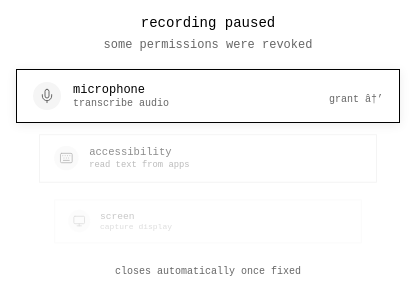
Test: permission recovery wheel › advances focus to the next revoked permission once one is regained
This screenshot has width=417, height=293.
Later steps or results of the test are not shown.
Click the button with test id "permission-row-microphone".
click(109, 90)  # box [16, 69, 400, 123]
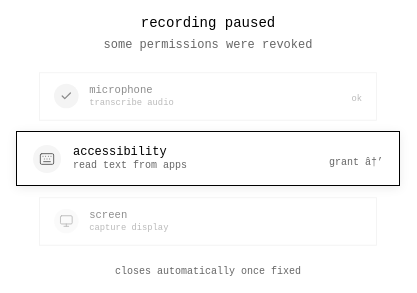
Expected: the button with test id "permission-row-screen" is disabled, [39, 197, 377, 245]
Expected: the button with test id "permission-row-accessibility" is enabled, [16, 131, 400, 186]
Expected: the button with test id "permission-row-microphone" is disabled, [39, 72, 377, 120]
